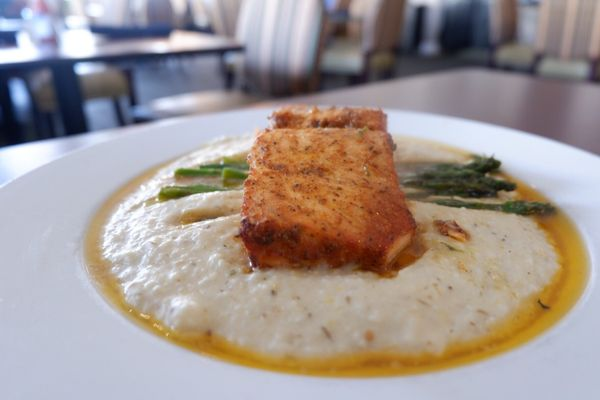soup: (237, 105, 418, 276)
